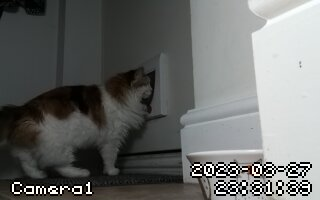clara: (6, 67, 169, 182)
